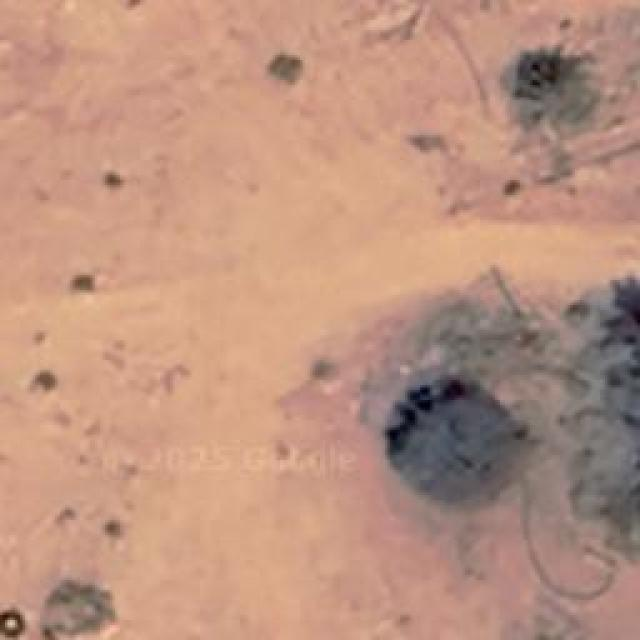PalmTree: (54, 123, 613, 343), (83, 85, 551, 123)
